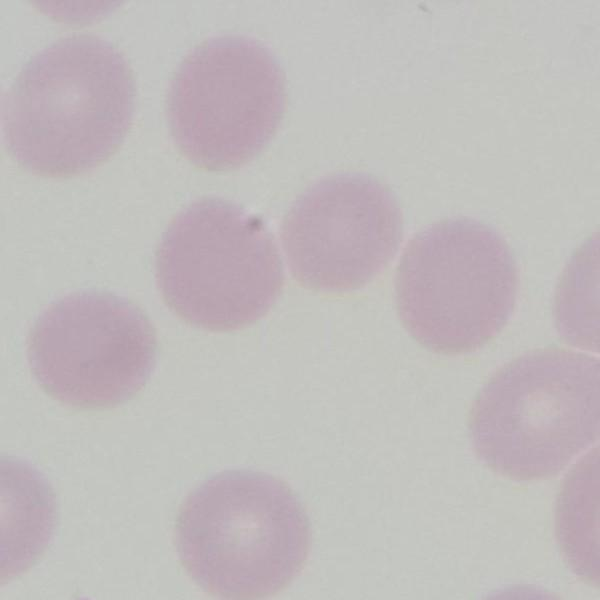Uninfected: (0, 35, 133, 176), (178, 470, 315, 600), (471, 345, 600, 479), (165, 35, 287, 172), (158, 202, 286, 331), (394, 219, 515, 351), (29, 292, 157, 408), (286, 173, 399, 291)
